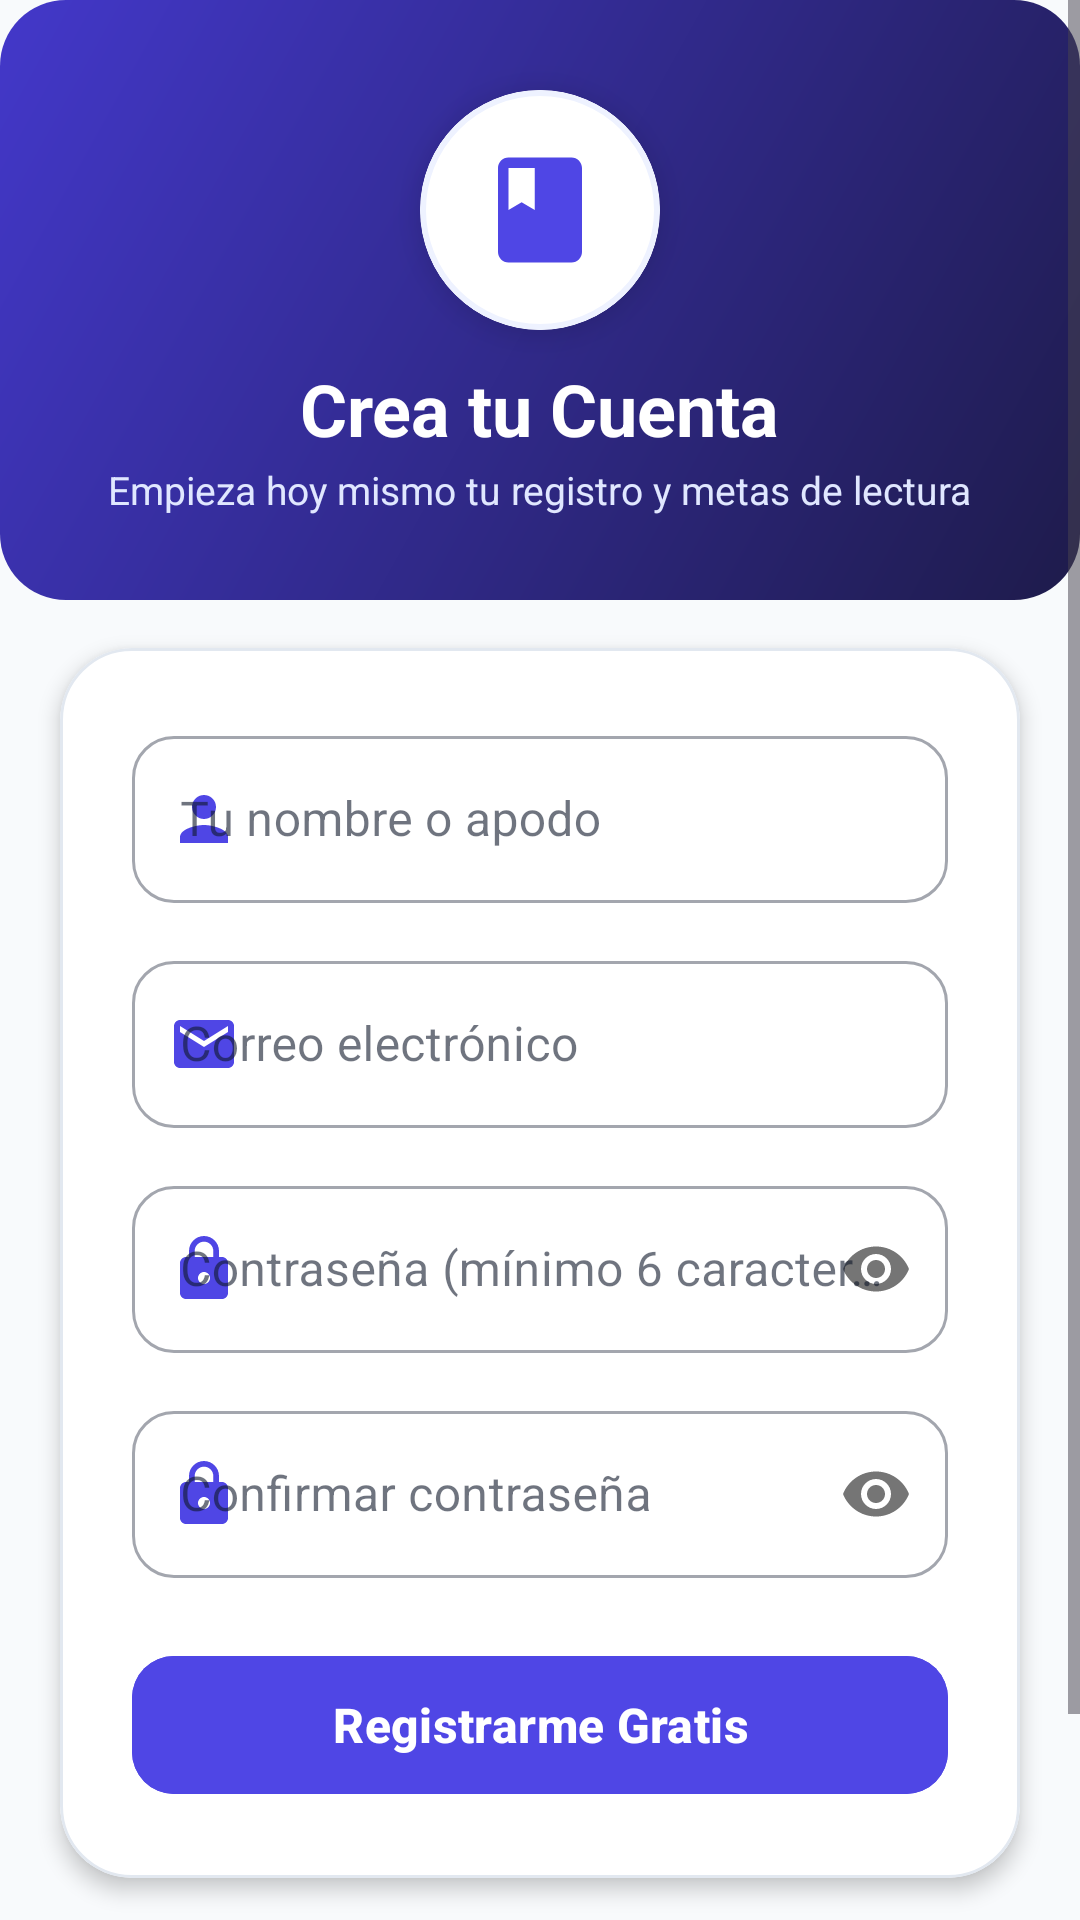

Screen size 1080 x 1920. Icon name, then its center in pixels as point (x, y):
book: point (540, 210)
